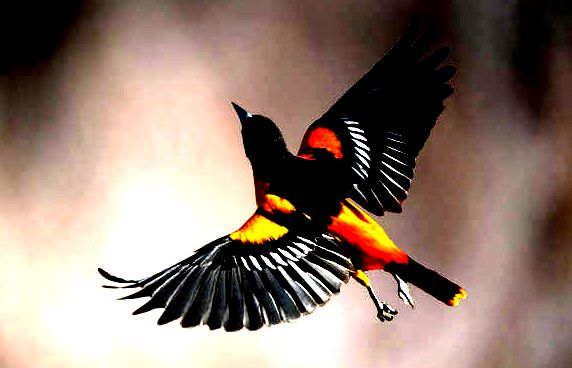Bird: (94, 17, 470, 334)
